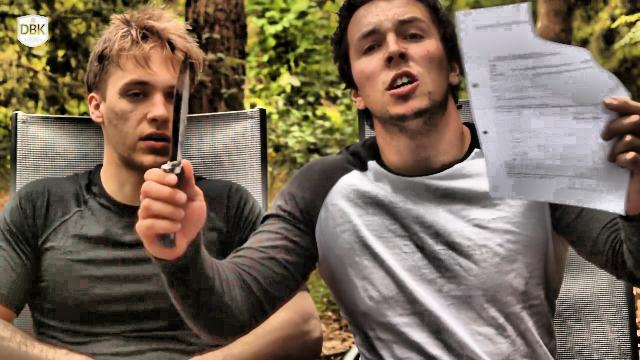knife: (136, 38, 202, 240)
